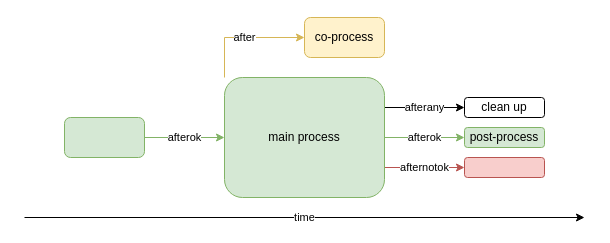
The diagram is 610 pixels wide and 243 high, and some of its shapes have lost their labels. Each missing label, with the centre of its shape:
"error handle" goes at point 504,167.
"pre-process" goes at point 104,137.
